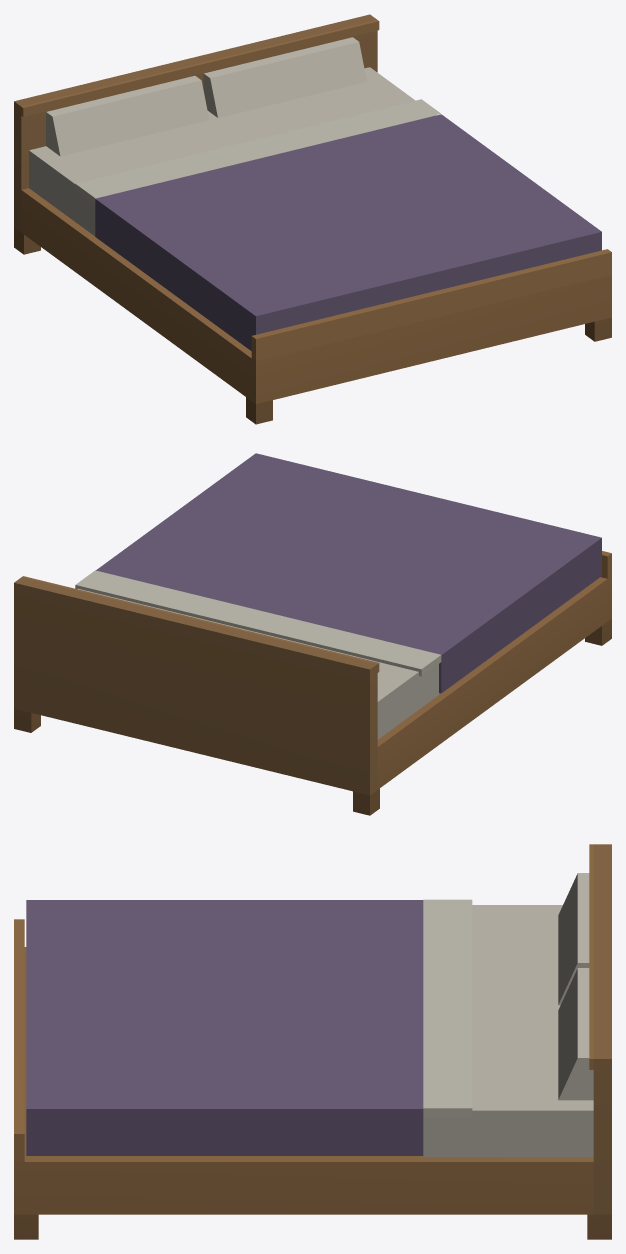
Rendered from bed.double.plum.glb.
3 renders of one model, top to bottom at view 1: azimuth 30°, elevation 25°; view 2: azimuth 150°, elevation 25°; view 3: azimuth 270°, elevation 25°, orthographic. The views are drawn at different scales.
Parts seen in each view (by area): view 1: bed_double_plum; view 2: bed_double_plum; view 3: bed_double_plum.
Boxes of the visible parts, left/top/right/bottom form: bed_double_plum: left=14, top=14, right=611, bottom=424; bed_double_plum: left=14, top=453, right=611, bottom=815; bed_double_plum: left=14, top=844, right=611, bottom=1239.
Size of what is drawn, in the model's own units: 1.66 by 0.65 by 1.95.
